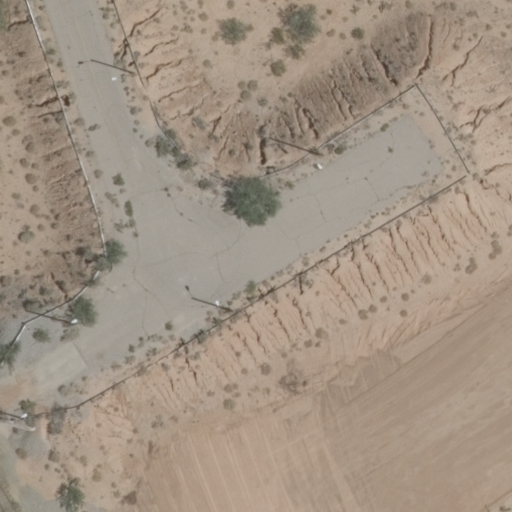DT: (308, 146, 334, 172), (124, 67, 142, 87), (60, 316, 82, 332), (218, 303, 235, 316)
